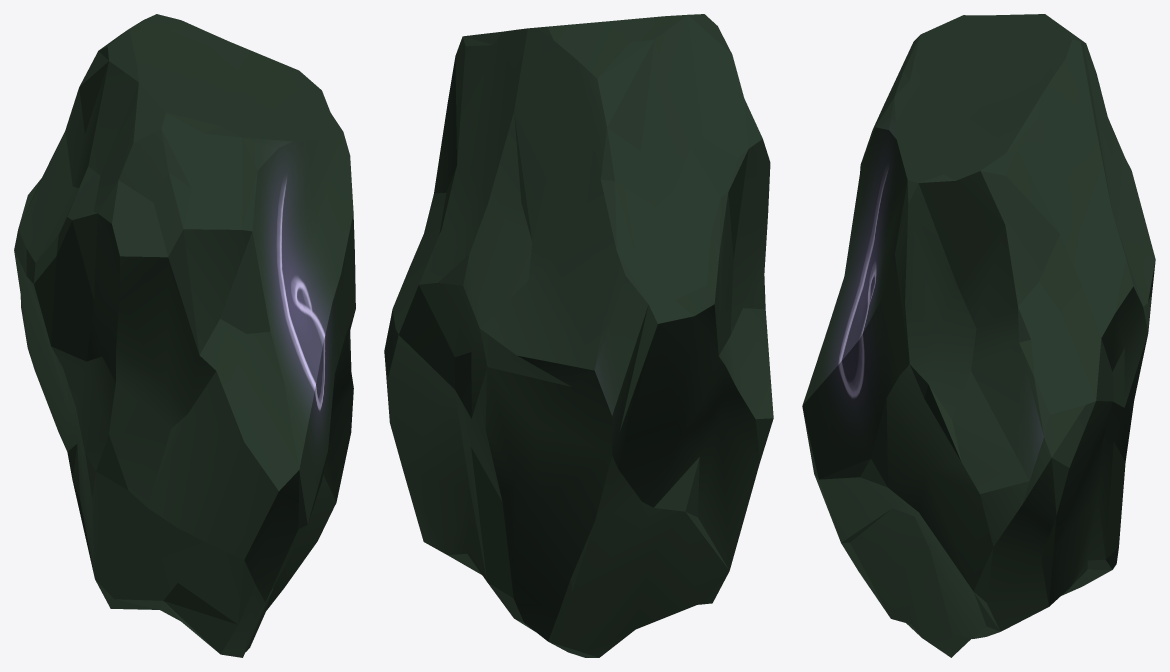
The model's file is Rock_1.FBX.
3 views of the same model, side by side, from view 1: azimuth 30°, elevation 25°; view 2: azimuth 150°, elevation 25°; view 3: azimuth 270°, elevation 25° (orthographic). The views are drawn at different scales.
Parts seen in each view (by area): view 1: GeoSphere004; view 2: GeoSphere004; view 3: GeoSphere004.
Part boxes in pixels (bbox=[...]): GeoSphere004: bbox=[14, 14, 355, 657]; GeoSphere004: bbox=[384, 14, 773, 657]; GeoSphere004: bbox=[802, 14, 1155, 657].
Size of the model in its own units: 93.25 by 180 by 95.08.
